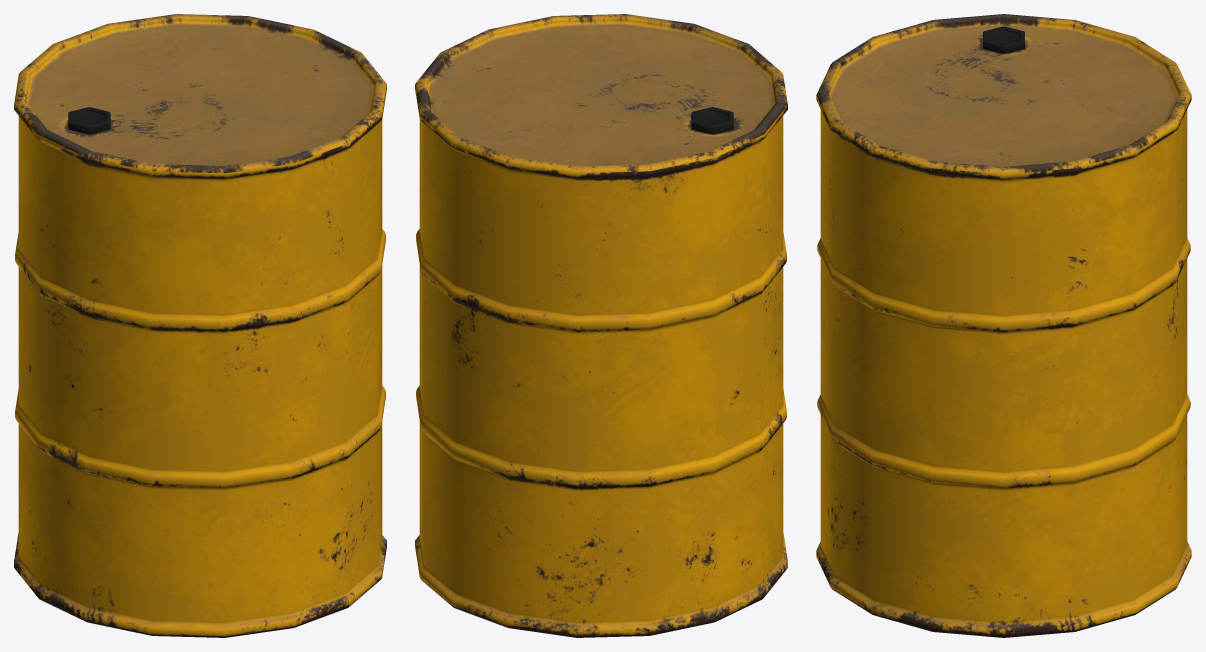
Rendered from barrel.glb.
3 renders of one model, left to right at view 1: azimuth 30°, elevation 25°; view 2: azimuth 150°, elevation 25°; view 3: azimuth 270°, elevation 25°, orthographic.
Visible parts, largest first — view 1: Barrel_01; view 2: Barrel_01; view 3: Barrel_01.
Part boxes in pixels (x1,y1,x2,y2): Barrel_01: [14, 14, 386, 637]; Barrel_01: [415, 14, 787, 637]; Barrel_01: [816, 14, 1191, 637].
Size of the model in its own units: 3.07 by 4.25 by 3.07.
1 material, 1 textured.
